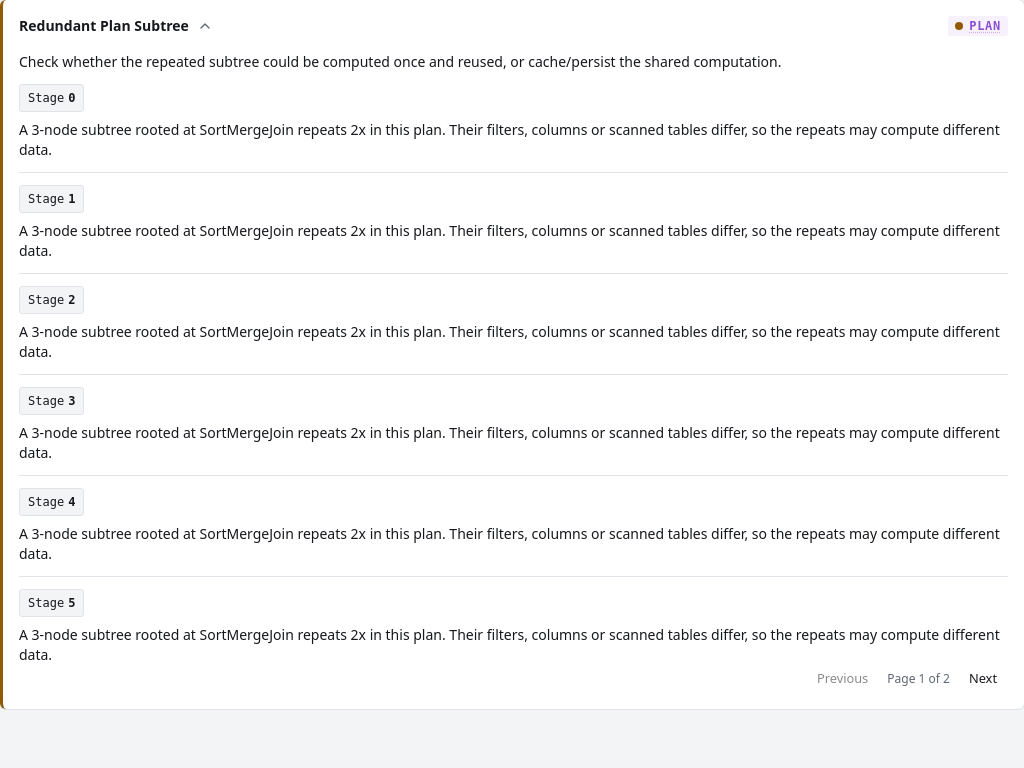
Test: paginates 6-at-a-time with Previous/Next controls
Expected: the number of list items is 6, [19,84,1008,173]; [19,185,1008,274]; [19,286,1008,375]; [19,387,1008,476]; [19,488,1008,577]; [19,589,1008,665]
Expected: the text "Page 1 of 2" is shown, [887,671,950,687]
Click the button "Next" at (983, 679), box [958,665,1008,693]
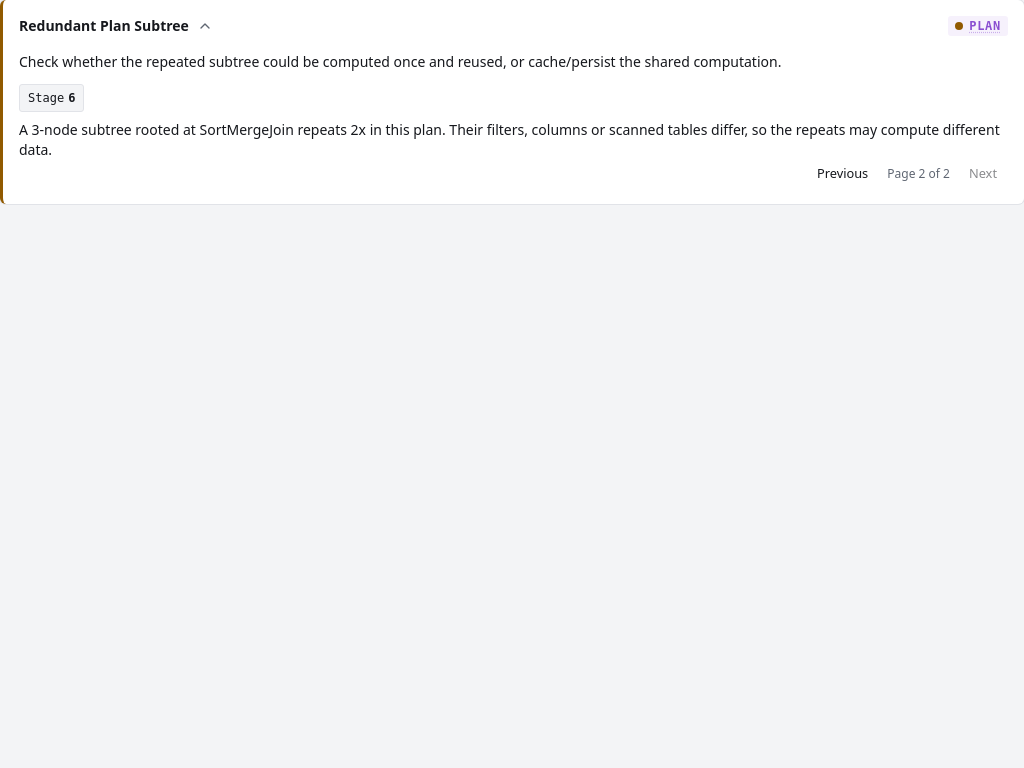
Result: the number of list items is 1 at [19,84,1008,160]
Result: the text "Page 2 of 2" is shown at [887,166,950,182]
